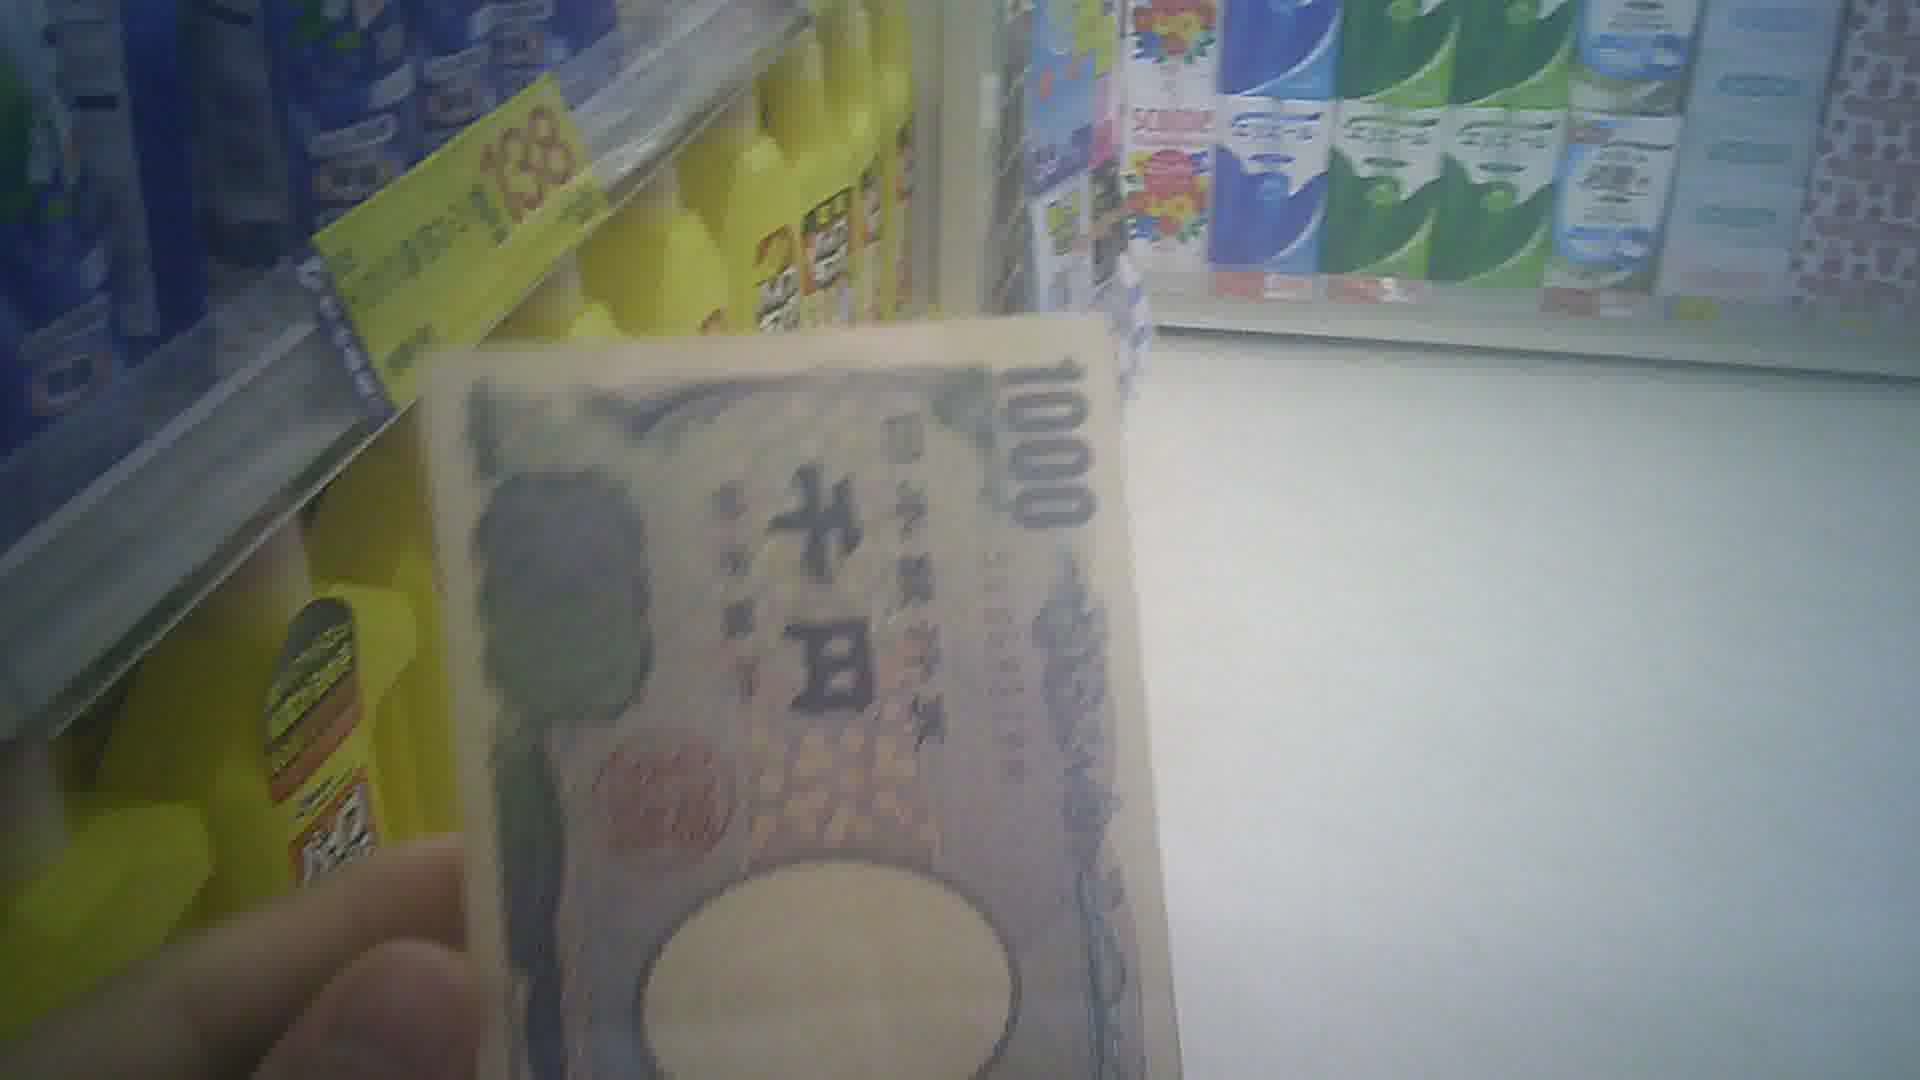1,000 Yen: (414, 332, 1193, 1079)
